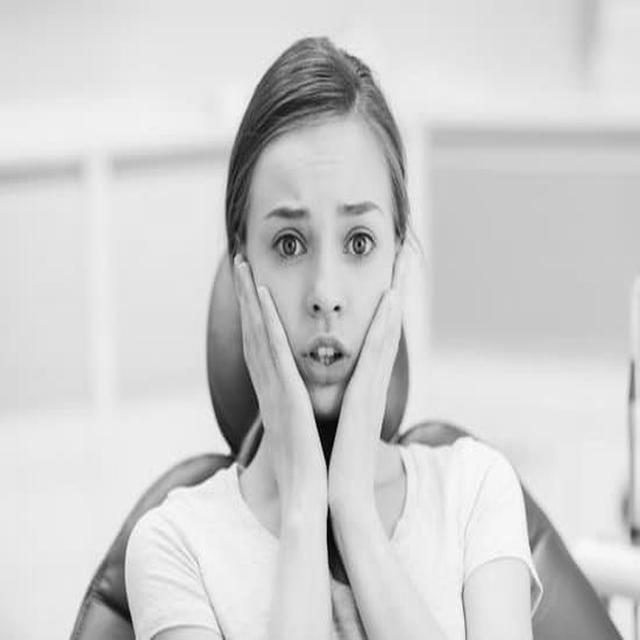Fear: (255, 120, 393, 418)
